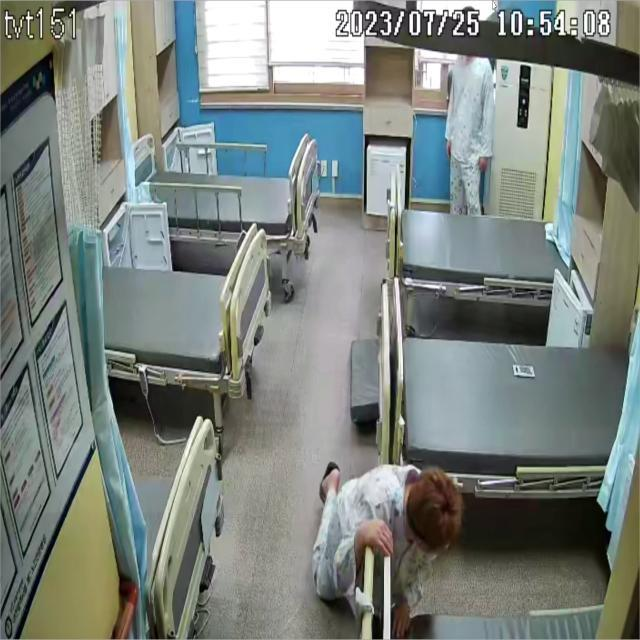bed: (397, 327, 631, 501), (102, 223, 274, 400), (136, 133, 320, 254), (388, 183, 570, 304)
danger: (306, 464, 462, 640)
patient: (306, 465, 461, 640)
